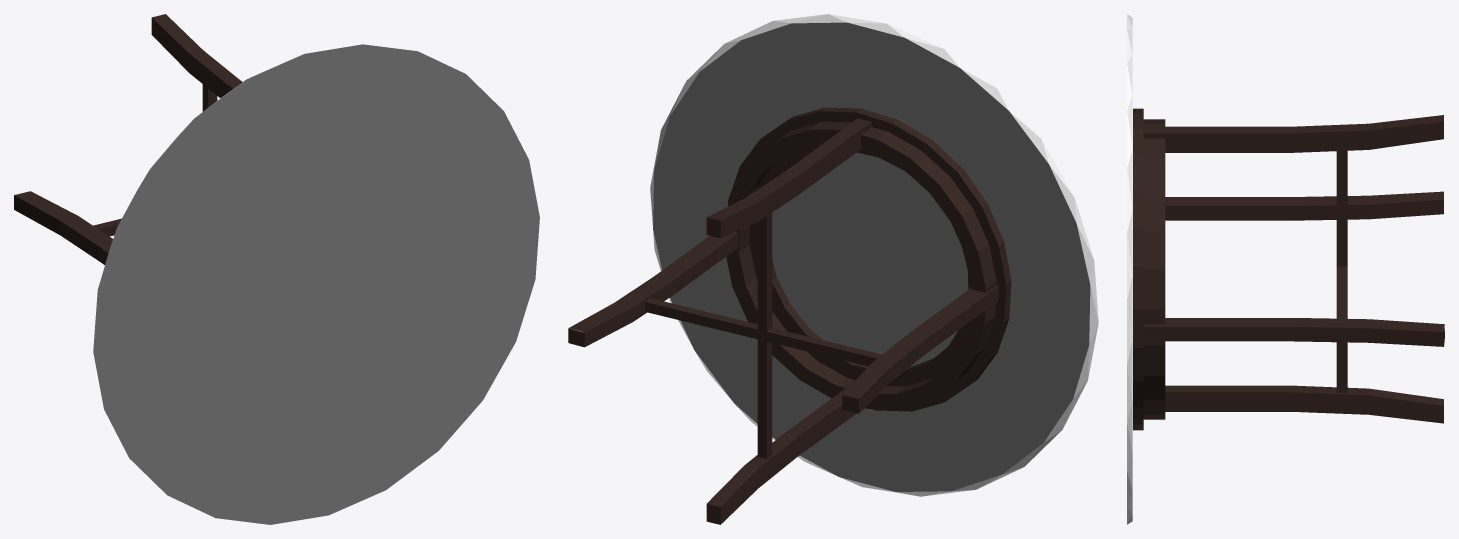
3 renders of one model, left to right at view 1: azimuth 30°, elevation 25°; view 2: azimuth 150°, elevation 25°; view 3: azimuth 270°, elevation 25°, orthographic.
Parts seen in each view (by area): view 1: halo dining table; view 2: halo dining table; view 3: halo dining table.
Boxes of the visible parts, x1,y1,x2,y2 form: halo dining table: (14,14,539,524); halo dining table: (568,14,1098,524); halo dining table: (1127,14,1444,524).
Size of the model in its own units: 47.93 by 47.93 by 29.63.
